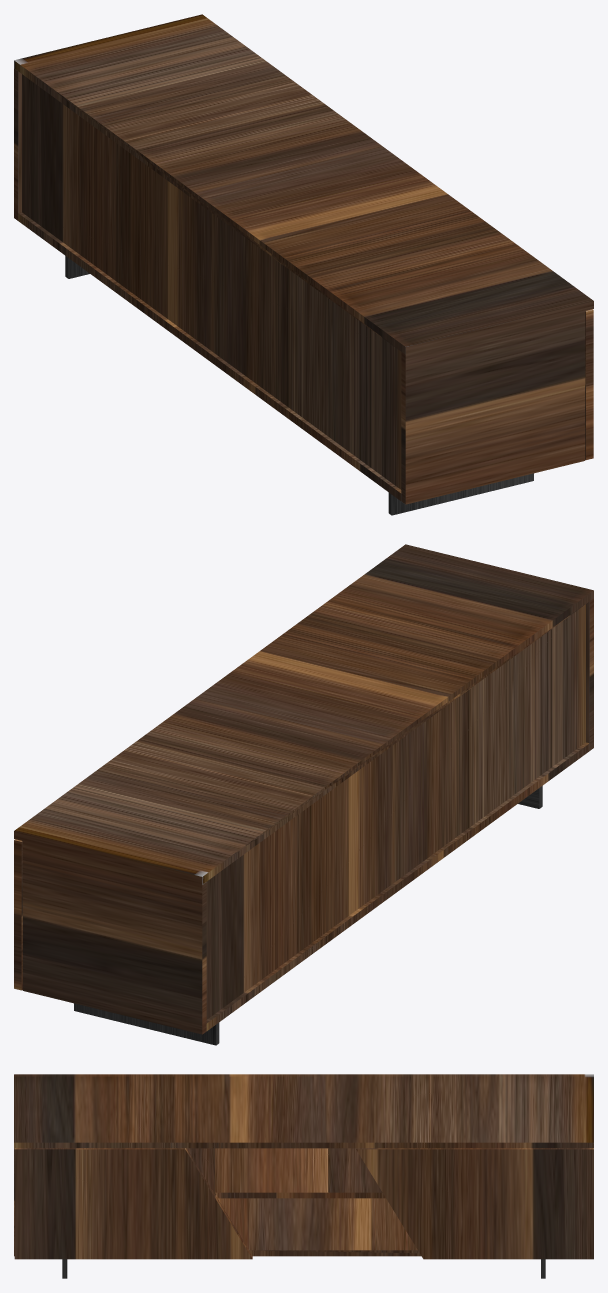
File: komoda.glb
The picture shows the model from 3 angles, top to bottom: view 1: azimuth 30°, elevation 25°; view 2: azimuth 150°, elevation 25°; view 3: azimuth 270°, elevation 25°; orthographic projection. The views are drawn at different scales.
Parts seen in each view (by area): view 1: group_8, group_1, group_3, group_10; view 2: group_8, group_1, group_2, group_11; view 3: group_8, group_3, group_2, group_4, group_5.
Boxes of the visible parts, left/top/right/bottom form: group_8: left=14, top=14, right=593, bottom=504; group_1: left=22, top=74, right=401, bottom=489; group_3: left=585, top=309, right=593, bottom=459; group_10: left=388, top=473, right=533, bottom=515; group_8: left=14, top=544, right=593, bottom=1034; group_1: left=206, top=604, right=585, bottom=1019; group_2: left=14, top=839, right=22, bottom=990; group_11: left=74, top=1003, right=219, bottom=1045; group_8: left=14, top=1074, right=593, bottom=1256; group_3: left=14, top=1148, right=252, bottom=1259; group_2: left=356, top=1148, right=593, bottom=1259; group_4: left=215, top=1148, right=385, bottom=1198; group_5: left=186, top=1148, right=248, bottom=1249.
Bounding box in the file's own units: 0.5 × 0.5 × 1.8.
Materials: 2 (2 with a texture image).
